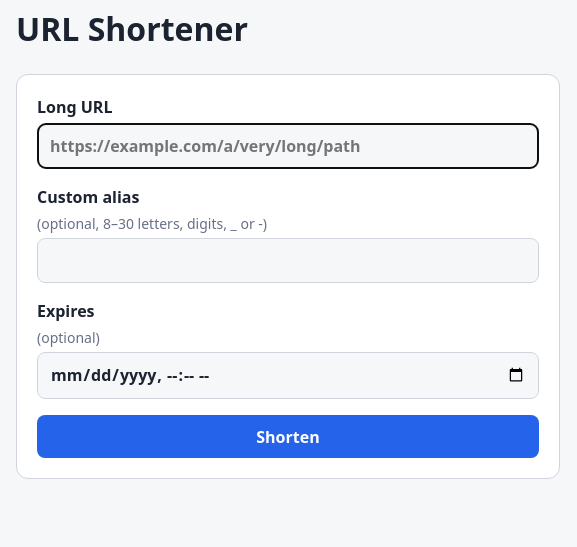
Test: App › shows the server error, e.g. a taken alias
Type "https://example.com" into the field labelled "Long URL" at point(288, 146), box [37,123,539,169]
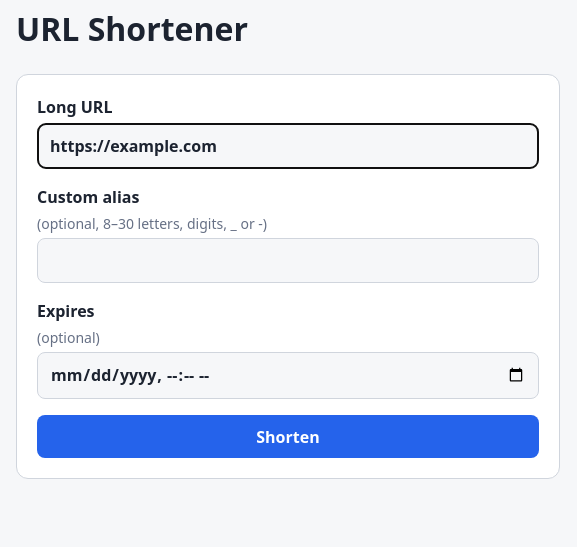
Type "taken-alias" into the field labelled "Custom alias (optional, 8–30 letters, digits, _ or -)" at point(288, 260), box [37,238,539,283]
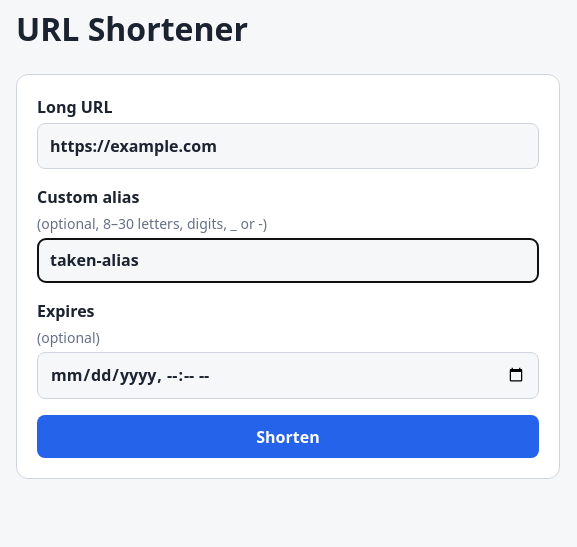
Click the button "Shorten" at point(288, 437), box [37,415,539,458]
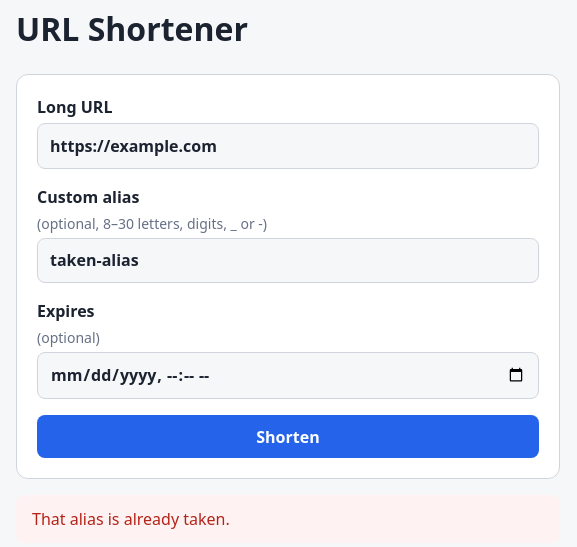
Check: the message reads "That alias is already taken.", box [32,508,230,530]
